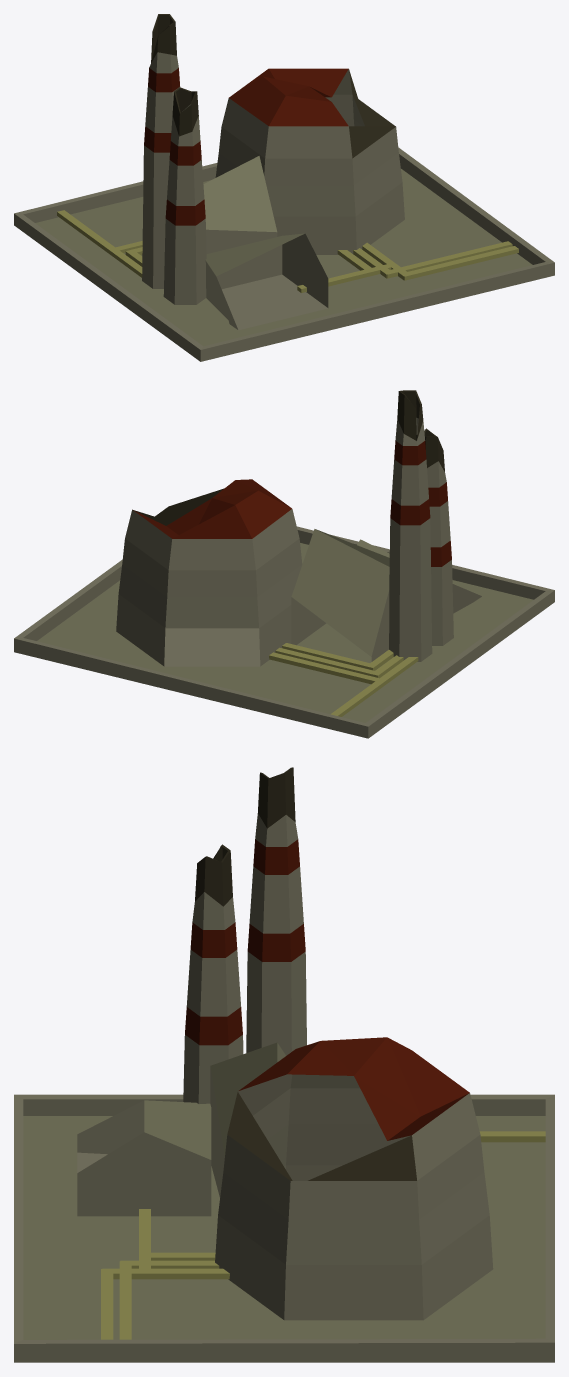
File: DmgThermal power station.fbx
3 renders of one model, top to bottom at view 1: azimuth 30°, elevation 25°; view 2: azimuth 150°, elevation 25°; view 3: azimuth 270°, elevation 25°, orthographic. The views are drawn at different scales.
Parts seen in each view (by area): view 1: Nuke buildings.001, chims, Pipes; view 2: Nuke buildings.001, chims, Pipes; view 3: Nuke buildings.001, chims, Pipes.
Part boxes in pixels (x1,y1,x2,y2): Nuke buildings.001: [14, 68, 554, 361]; chims: [142, 14, 206, 304]; Pipes: [57, 210, 518, 292]; Nuke buildings.001: [14, 479, 554, 738]; chims: [389, 390, 453, 661]; Pipes: [269, 643, 418, 716]; Nuke buildings.001: [14, 1037, 554, 1362]; chims: [183, 767, 306, 1103]; Pipes: [101, 1131, 545, 1339].
Bounding box in the file's own units: 885 × 707 × 808.
